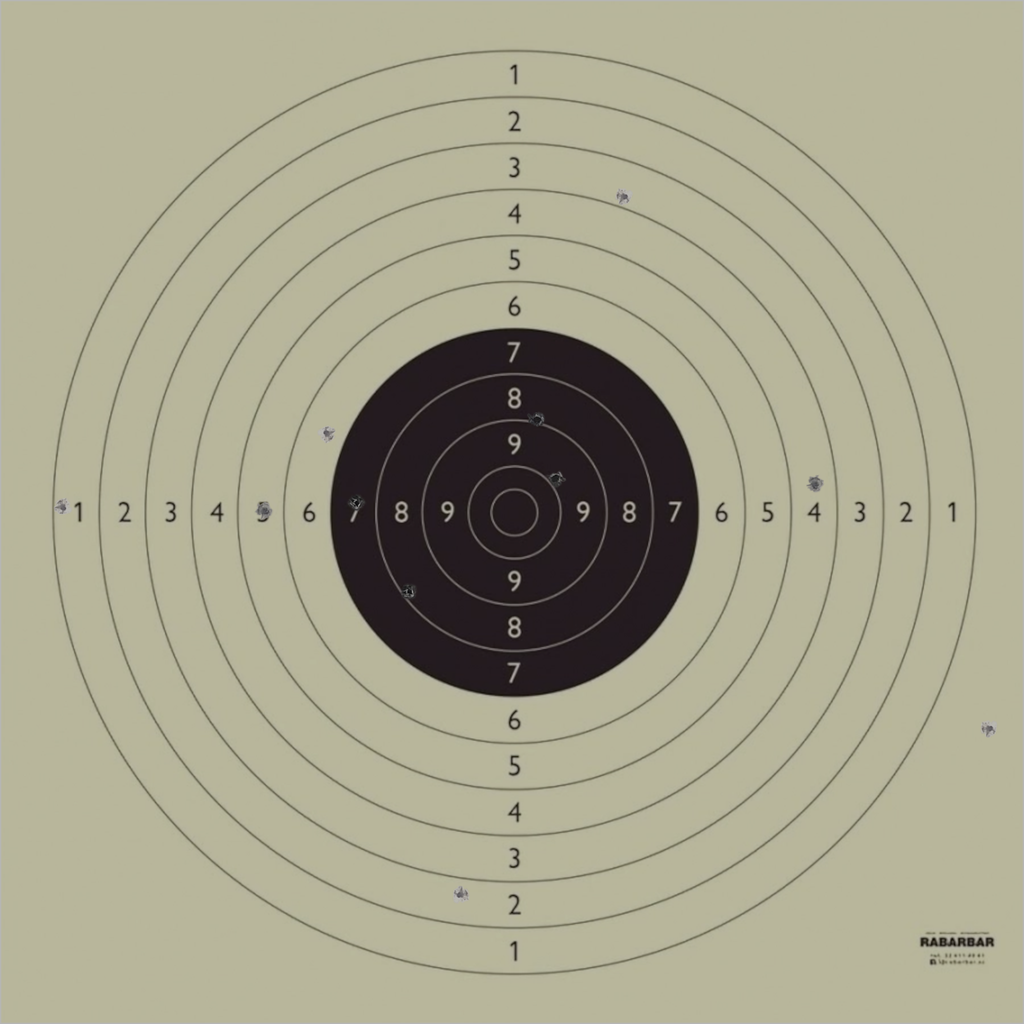0 punktow: (980, 720, 999, 738)
1 punkt: (54, 498, 72, 517)
10 punktow: (547, 469, 565, 488)
2 punkty: (451, 885, 469, 904)
3 punkty: (615, 188, 633, 206)
4 punkty: (806, 475, 824, 494)
5 punktow: (256, 502, 274, 520)
6 punktow: (318, 424, 336, 443)
7 punktow: (348, 494, 366, 513)
8 punktow: (401, 583, 419, 601)
9 punktow: (528, 410, 546, 429)
